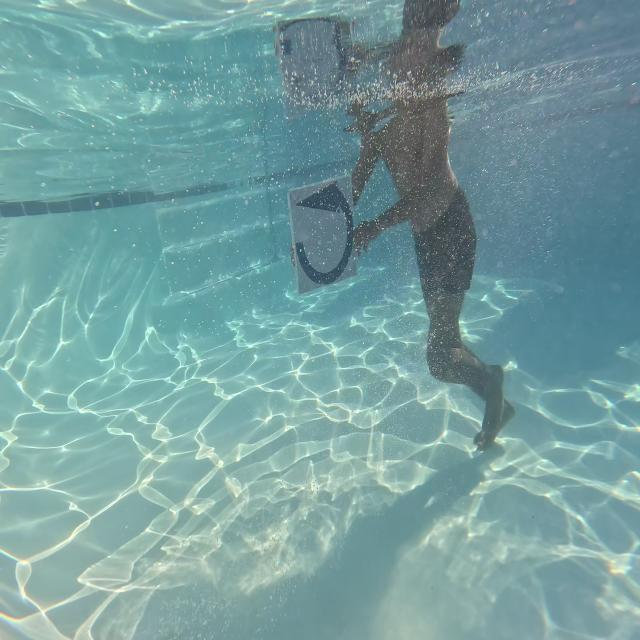blue_side: (291, 177, 356, 297)
